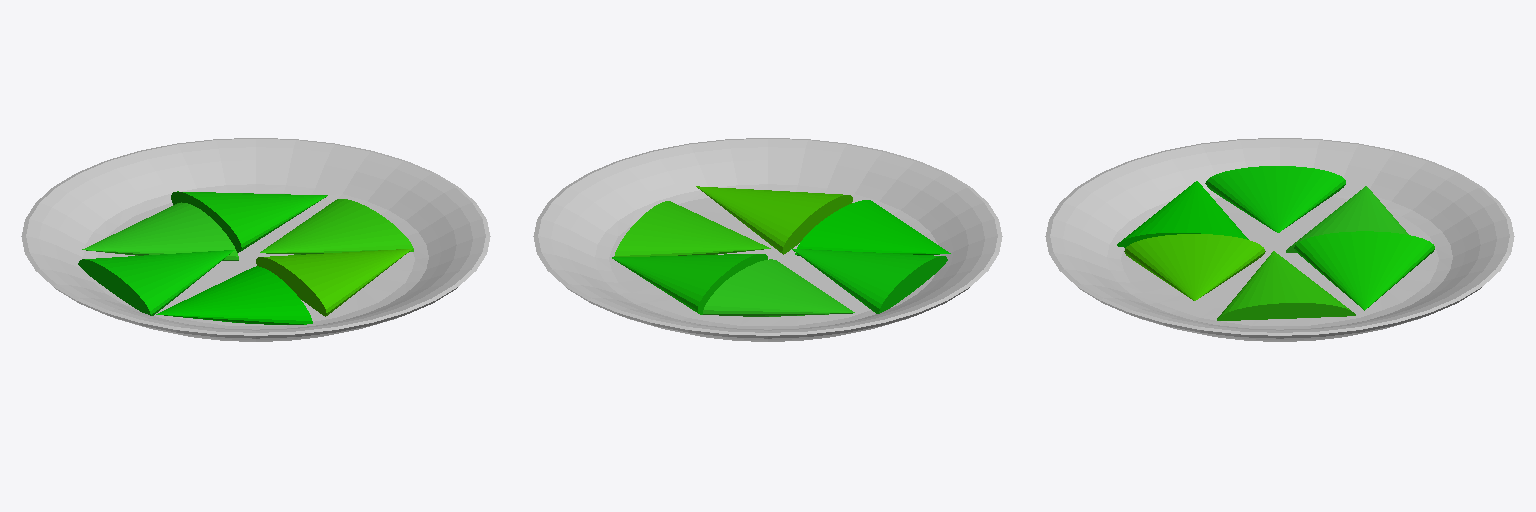
File: bacang.obj
3 views of the same model, side by side, from view 1: azimuth 30°, elevation 25°; view 2: azimuth 150°, elevation 25°; view 3: azimuth 270°, elevation 25° (orthographic).
Visible parts, largest first — view 1: Cylinder, Cone.003, Cone.005, Cone.001, Cone, Cone.004, Cone.002; view 2: Cylinder, Cone.004, Cone.003, Cone.001, Cone, Cone.005, Cone.002; view 3: Cylinder, Cone.002, Cone.001, Cone.003, Cone, Cone.005, Cone.004.
Part boxes in pixels (left/top/right/bottom): Cylinder: left=21, top=138, right=490, bottom=341; Cone.003: left=78, top=250, right=234, bottom=315; Cone.005: left=156, top=266, right=312, bottom=324; Cone.001: left=256, top=249, right=411, bottom=316; Cone: left=260, top=199, right=413, bottom=254; Cone.004: left=82, top=202, right=238, bottom=260; Cone.002: left=171, top=191, right=327, bottom=252; Cylinder: left=533, top=138, right=1002, bottom=341; Cone.004: left=703, top=259, right=854, bottom=316; Cone.003: left=790, top=248, right=947, bottom=313; Cone.001: left=696, top=186, right=852, bottom=254; Cone: left=614, top=201, right=770, bottom=256; Cone.005: left=795, top=200, right=950, bottom=255; Cone.002: left=612, top=254, right=767, bottom=314; Cylinder: left=1045, top=138, right=1514, bottom=341; Cone.002: left=1294, top=231, right=1434, bottom=310; Cone.001: left=1124, top=234, right=1265, bottom=300; Cone.003: left=1205, top=166, right=1345, bottom=232; Cone: left=1217, top=251, right=1355, bottom=320; Cone.005: left=1117, top=181, right=1248, bottom=247; Cone.004: left=1286, top=186, right=1408, bottom=252.
Size of the model in its own units: 2.31 by 0.2314 by 2.31.